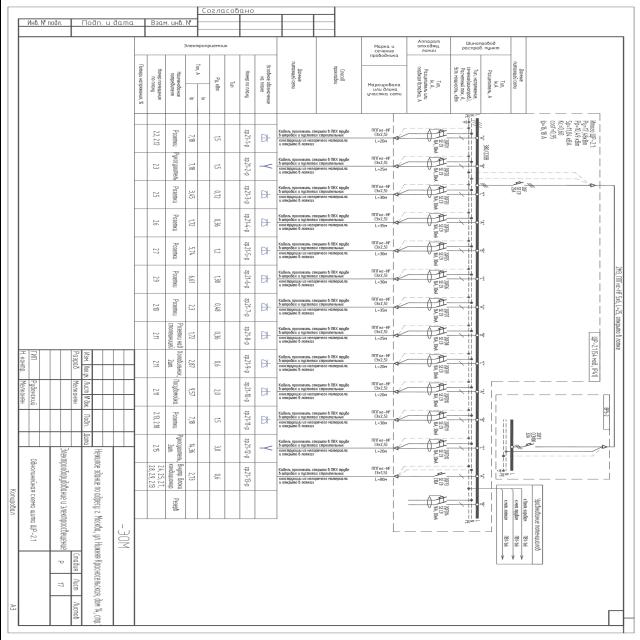-: (589, 336, 599, 378), (432, 308, 444, 324), (431, 336, 443, 352), (432, 139, 444, 154), (432, 365, 444, 380), (431, 421, 443, 436), (432, 167, 444, 182), (432, 252, 444, 267), (432, 393, 444, 408), (432, 280, 444, 295), (432, 224, 444, 239), (432, 450, 444, 464), (432, 196, 444, 210), (432, 506, 444, 520), (509, 186, 522, 196), (432, 478, 444, 486)
QF: (509, 180, 535, 188), (431, 472, 463, 478)
QFD: (426, 353, 464, 368), (426, 409, 464, 424), (426, 297, 464, 311), (426, 325, 464, 339), (426, 382, 464, 396), (426, 438, 464, 452), (426, 494, 464, 508), (425, 129, 463, 143), (425, 184, 463, 198), (426, 213, 464, 227), (426, 241, 464, 255), (426, 270, 464, 284), (426, 157, 464, 170)
